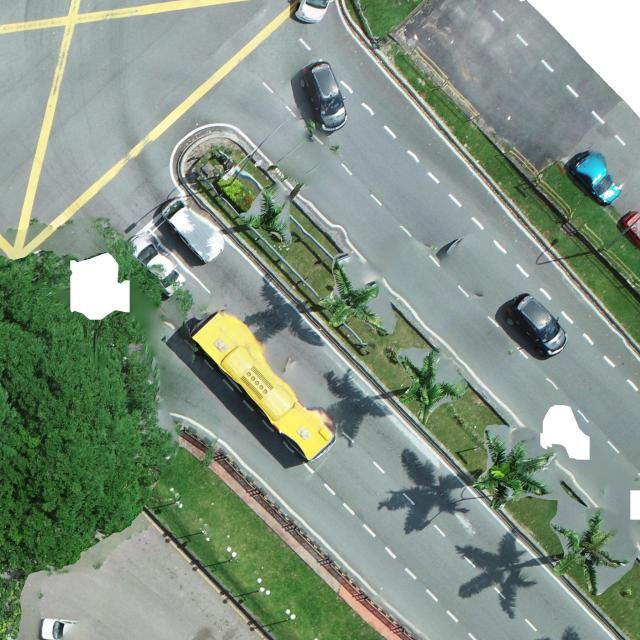Tree: (0, 245, 167, 577), (548, 509, 628, 594), (477, 428, 556, 509), (393, 352, 465, 422), (314, 263, 381, 333), (237, 186, 287, 244)
